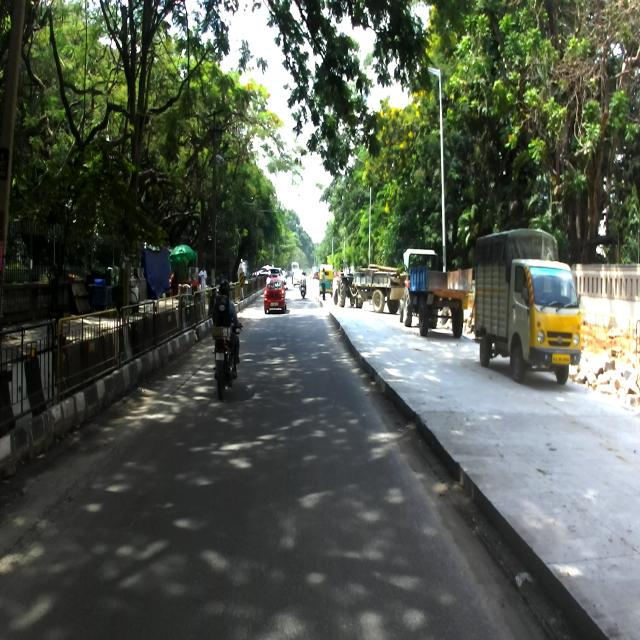car ahead at: (476, 230, 585, 382)
truck ahead at: (398, 250, 468, 342)
